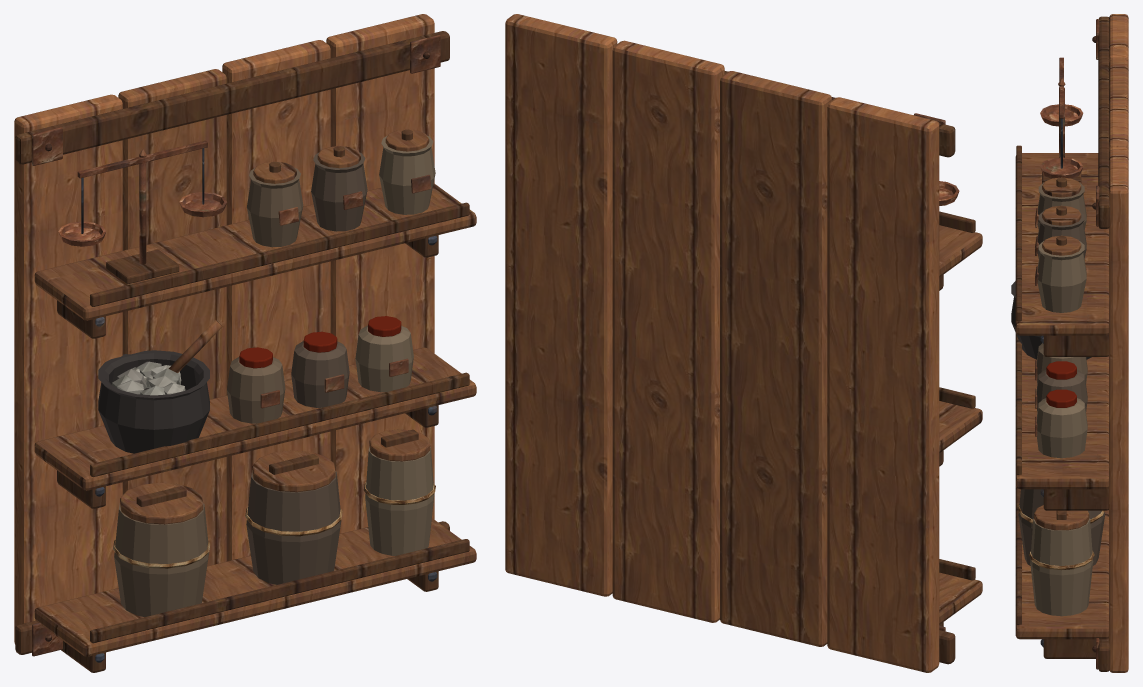
Rendered from cf_flux_shelf.glb.
3 views of the same model, side by side, from view 1: azimuth 30°, elevation 25°; view 2: azimuth 150°, elevation 25°; view 3: azimuth 270°, elevation 25° (orthographic). The views are drawn at different scales.
Visible parts, largest first — view 1: model; view 2: model; view 3: model.
Part boxes in pixels (<box>): model: <box>14,14,476,672</box>; model: <box>505,14,982,672</box>; model: <box>1011,14,1128,672</box>.
Size of the model in its own units: 1.14 by 1.36 by 0.298.
Materials: 18 (13 with a texture image).
